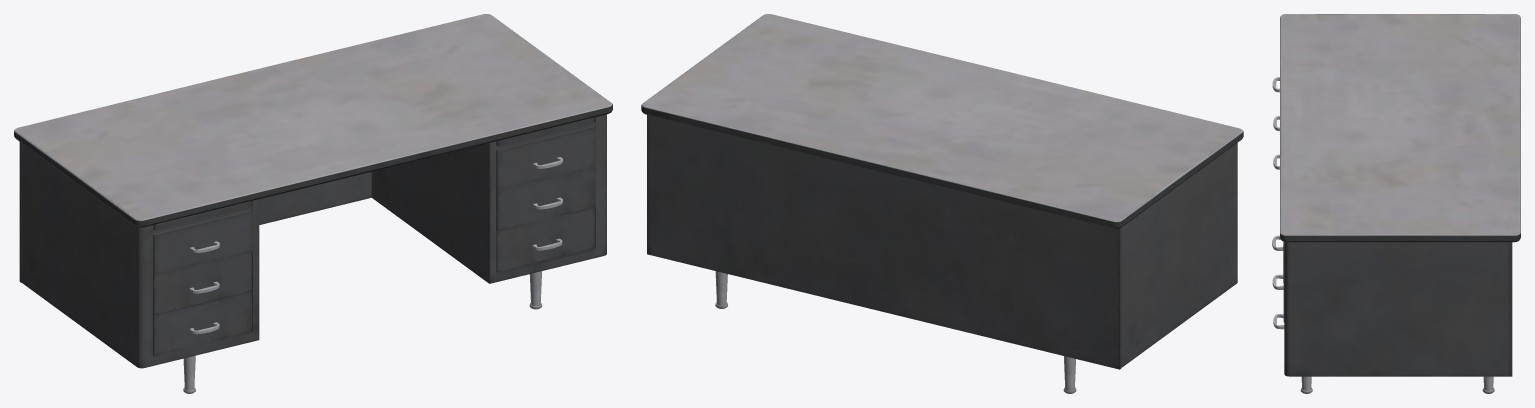
File: desk.glb
3 views of the same model, side by side, from view 1: azimuth 30°, elevation 25°; view 2: azimuth 150°, elevation 25°; view 3: azimuth 270°, elevation 25° (orthographic). The views are drawn at different scales.
Parts seen in each view (by area): view 1: metal_office_desk, metal_office_desk_drawer_04, metal_office_desk_drawer_01, metal_office_desk_drawer_02, metal_office_desk_drawer_03, metal_office_desk_drawer_06, metal_office_desk_drawer_05, metal_office_desk_tray_01, metal_office_desk_tray_02; view 2: metal_office_desk; view 3: metal_office_desk.
Part boxes in pixels (bbox=[...]): metal_office_desk: bbox=[14, 14, 612, 393]; metal_office_desk_drawer_04: bbox=[153, 210, 252, 275]; metal_office_desk_drawer_01: bbox=[496, 126, 595, 191]; metal_office_desk_drawer_02: bbox=[496, 167, 595, 231]; metal_office_desk_drawer_03: bbox=[496, 208, 594, 272]; metal_office_desk_drawer_06: bbox=[153, 292, 251, 356]; metal_office_desk_drawer_05: bbox=[153, 252, 251, 315]; metal_office_desk_tray_01: bbox=[153, 201, 251, 230]; metal_office_desk_tray_02: bbox=[496, 117, 594, 146]; metal_office_desk: bbox=[641, 14, 1243, 393]; metal_office_desk: bbox=[1280, 14, 1520, 393].
Bounding box in the file's own units: 2 × 0.7874 × 0.9472.
Materials: 1 (1 with a texture image).
